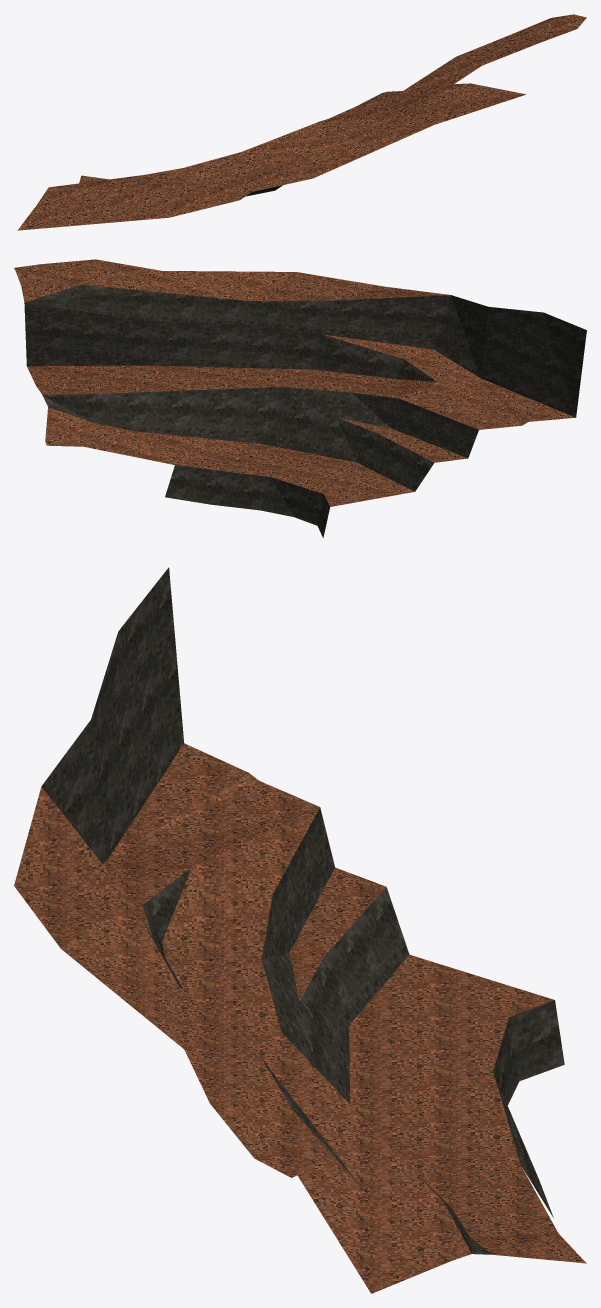
File: quarry_lodbit05.obj
3 views of the same model, one above another, from view 1: azimuth 30°, elevation 25°; view 2: azimuth 150°, elevation 25°; view 3: azimuth 270°, elevation 25° (orthographic). The views are drawn at different scales.
Visible parts, largest first — view 1: quarry_lodbit05; view 2: quarry_lodbit05; view 3: quarry_lodbit05.
Boxes of the visible parts, box(x1,y1,x2,y2) form: quarry_lodbit05: box(18, 14, 586, 230); quarry_lodbit05: box(14, 259, 586, 537); quarry_lodbit05: box(14, 567, 586, 1293).
Size of the model in its own units: 235 by 72.32 by 110.
Materials: 2 (2 with a texture image).
